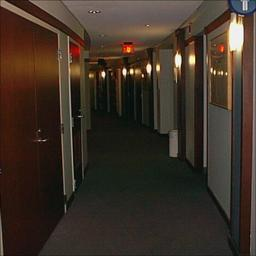Bote de Basura: (165, 129, 182, 158)
Puerta: (2, 10, 62, 253), (70, 43, 82, 186), (136, 68, 142, 124), (109, 73, 116, 110)
